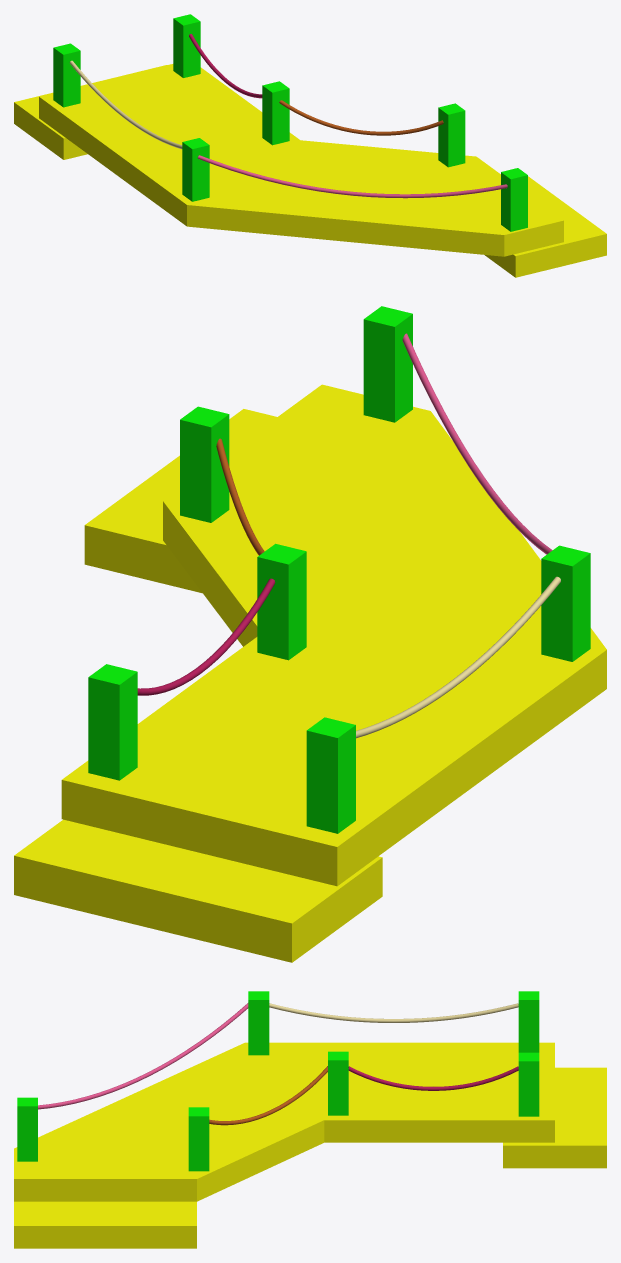
The picture shows the model from 3 angles, top to bottom: view 1: azimuth 30°, elevation 25°; view 2: azimuth 150°, elevation 25°; view 3: azimuth 270°, elevation 25°; orthographic projection. The views are drawn at different scales.
Visible parts, largest first — view 1: Color002_07, Color003_06, Color002_06, Loft03, Loft04, Loft01, Loft02; view 2: Color002_07, Color002_06, Color003_06, Loft03, Loft01, Loft02, Loft04; view 3: Color002_07, Color002_06, Color003_06, Loft01, Loft03, Loft02, Loft04.
Boxes of the visible parts, box(x1,y1,x2,y2) form: Color002_07: box(39, 64, 563, 256); Color003_06: box(53, 14, 527, 231); Color002_06: box(14, 65, 606, 277); Loft03: box(197, 155, 507, 198); Loft04: box(279, 100, 443, 135); Loft01: box(69, 60, 182, 149); Loft02: box(189, 34, 262, 98); Color002_07: box(61, 384, 606, 886); Color002_06: box(14, 409, 382, 962); Color003_06: box(88, 306, 590, 833); Loft03: box(402, 333, 552, 554); Loft01: box(356, 576, 560, 738); Loft02: box(137, 578, 275, 695); Loft04: box(216, 438, 264, 555); Color002_07: box(14, 1042, 554, 1201); Color002_06: box(14, 1067, 606, 1248); Color003_06: box(17, 991, 539, 1171); Loft01: box(269, 1003, 518, 1022); Loft03: box(38, 1003, 248, 1109); Loft02: box(348, 1066, 518, 1090); Loft04: box(209, 1066, 327, 1125).
Bounding box in the file's own units: 1800 × 545 × 2850.
